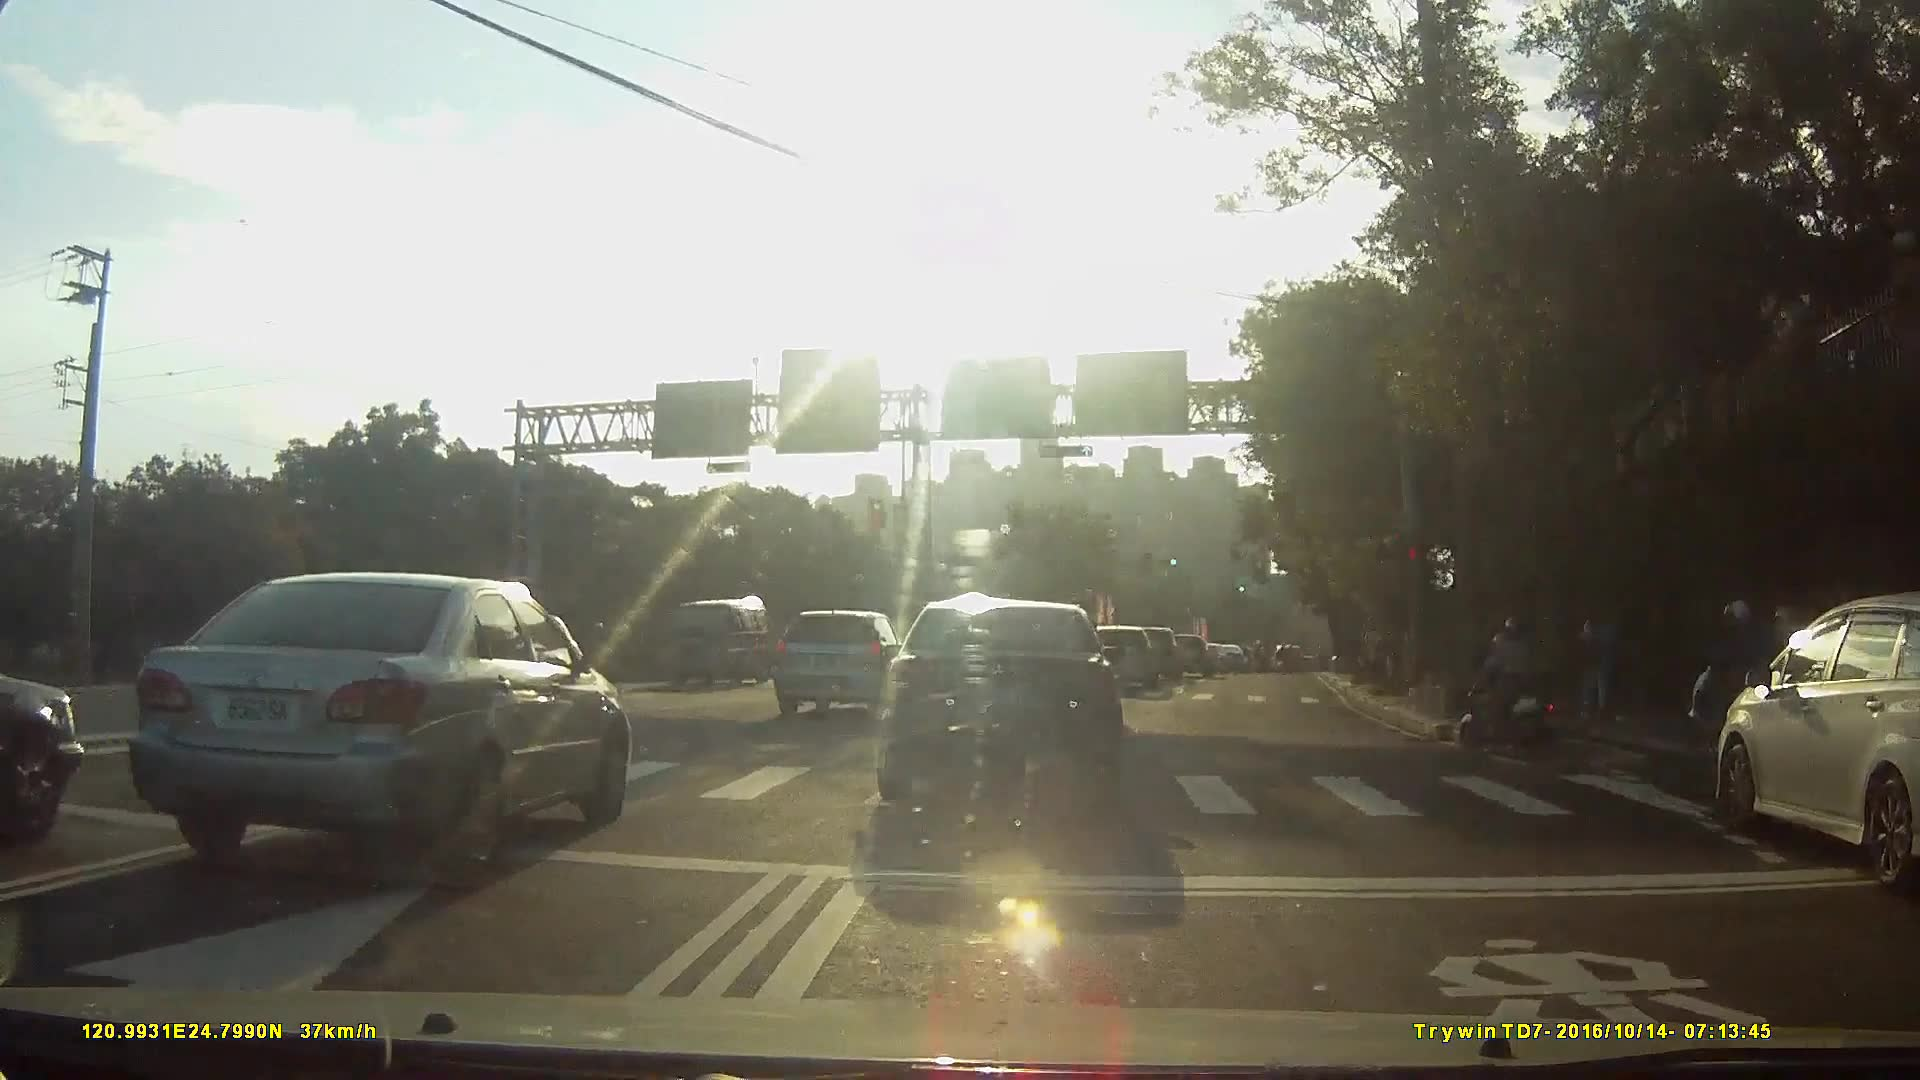pedestrian: (1573, 592, 1618, 723)
rider: (1464, 616, 1577, 762), (1694, 597, 1796, 745)
vehicle: (120, 571, 643, 876), (1709, 590, 1920, 875), (882, 593, 1131, 813), (1, 661, 100, 840), (780, 604, 922, 714), (666, 591, 787, 692), (1090, 622, 1164, 692), (1126, 623, 1188, 681), (1170, 632, 1222, 678), (1214, 645, 1252, 673)
